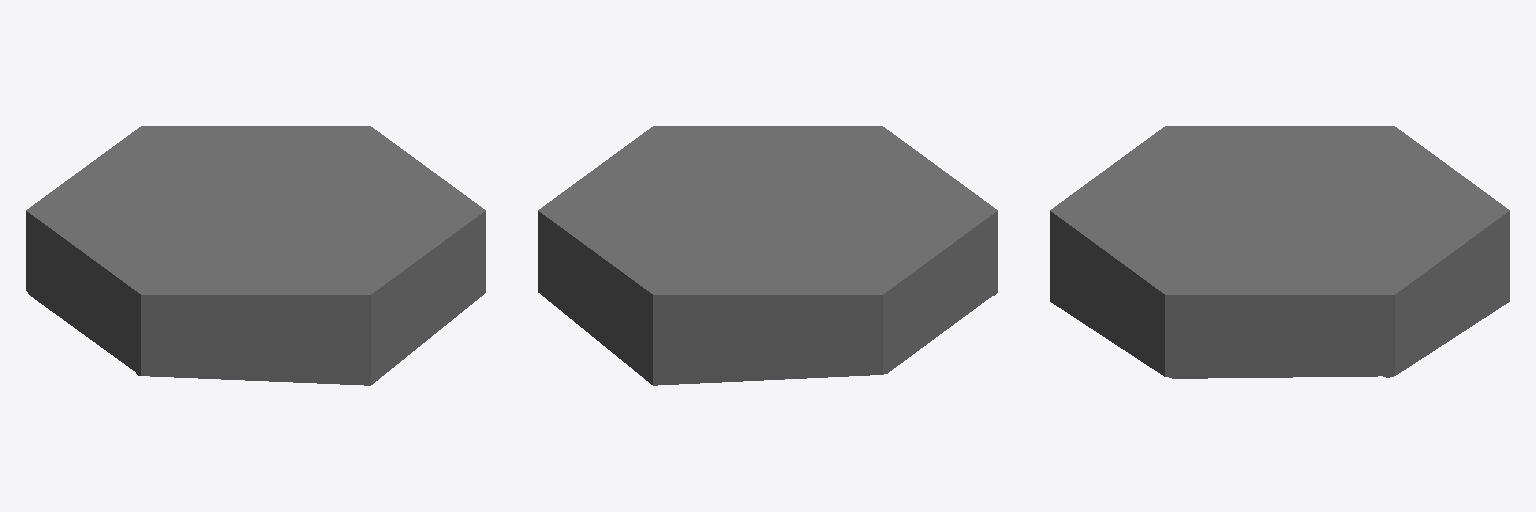
The model's file is ceiling.obj.
3 renders of one model, left to right at view 1: azimuth 30°, elevation 25°; view 2: azimuth 150°, elevation 25°; view 3: azimuth 270°, elevation 25°, orthographic.
Visible parts, largest first — view 1: detailed_roof group3; view 2: detailed_roof group3; view 3: detailed_roof group3.
Boxes of the visible parts, x1=… form: detailed_roof group3: x1=26, y1=126, x2=485, y2=385; detailed_roof group3: x1=538, y1=126, x2=997, y2=385; detailed_roof group3: x1=1050, y1=126, x2=1509, y2=378.
Bounding box in the file's own units: 29.25 × 7.37 × 33.77.